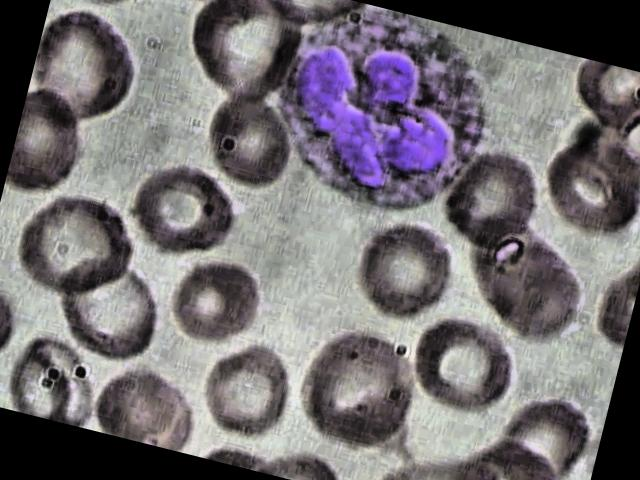RBC: (284, 317, 434, 465), (388, 301, 534, 430), (326, 206, 462, 341), (5, 178, 143, 304), (116, 149, 254, 273), (192, 76, 316, 202), (26, 5, 150, 128), (177, 0, 308, 110), (155, 246, 280, 359), (154, 244, 278, 356), (528, 122, 640, 244), (190, 329, 302, 447), (5, 82, 109, 206), (441, 139, 546, 257)
WBC: (257, 0, 513, 231)
